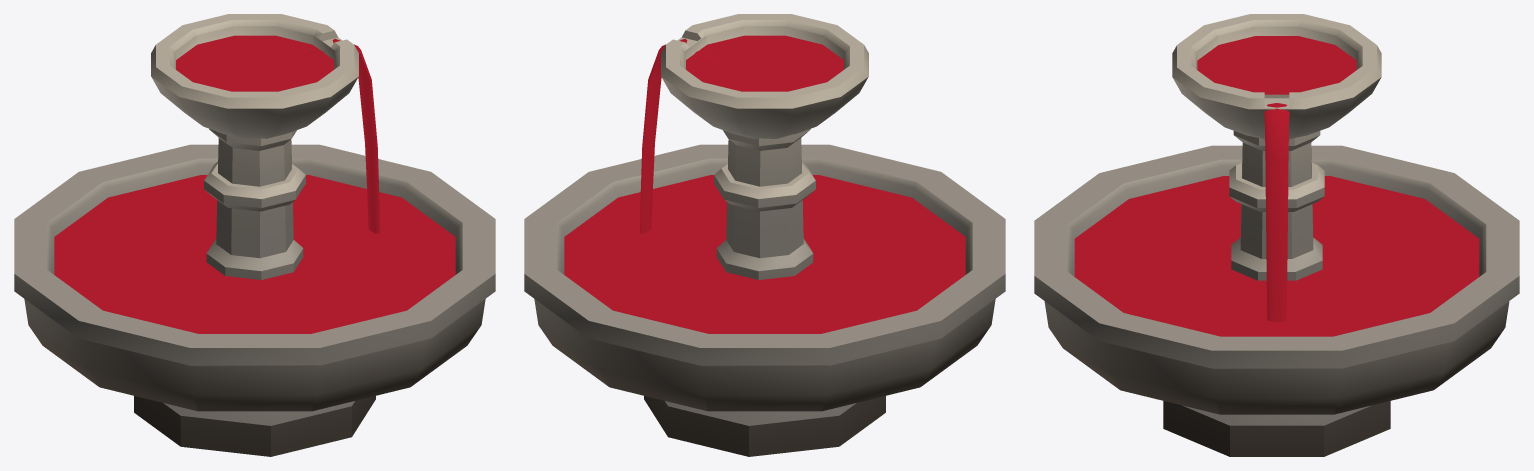
File: fountain_tiered_health.glb
3 views of the same model, side by side, from view 1: azimuth 30°, elevation 25°; view 2: azimuth 150°, elevation 25°; view 3: azimuth 270°, elevation 25° (orthographic).
Visible parts, largest first — view 1: Item, Liquid; view 2: Item, Liquid; view 3: Item, Liquid.
Boxes of the visible parts, box(x1,y1,x2,y2) form: Item: box(14, 14, 495, 456); Liquid: box(54, 35, 455, 333); Item: box(524, 14, 1005, 456); Liquid: box(564, 35, 965, 333); Item: box(1034, 14, 1519, 456); Liquid: box(1074, 36, 1479, 336).
Size of the model in its own units: 1.97 by 1.58 by 1.97.
2 materials, 2 textured.
